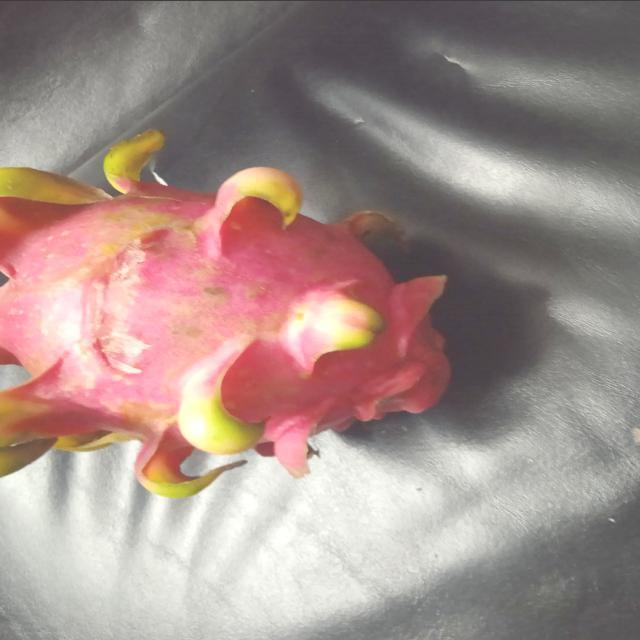do: (0, 127, 458, 497)
